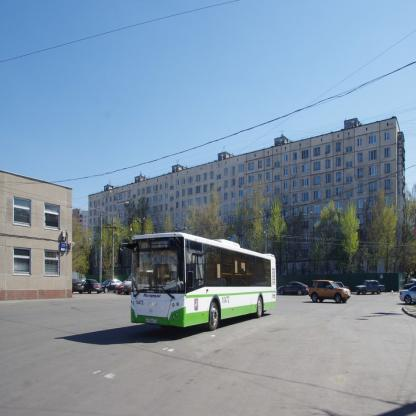Car: (311, 282, 352, 305), (278, 282, 311, 296), (358, 282, 386, 297), (103, 280, 122, 295), (401, 287, 416, 306), (85, 281, 103, 294), (73, 280, 86, 295), (125, 274, 133, 295), (119, 281, 127, 294)
